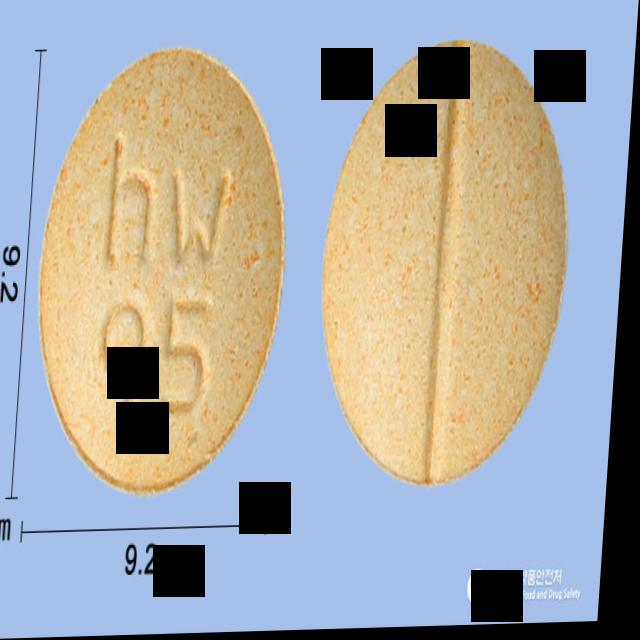Doxy: (29, 44, 304, 500), (314, 39, 583, 489)
